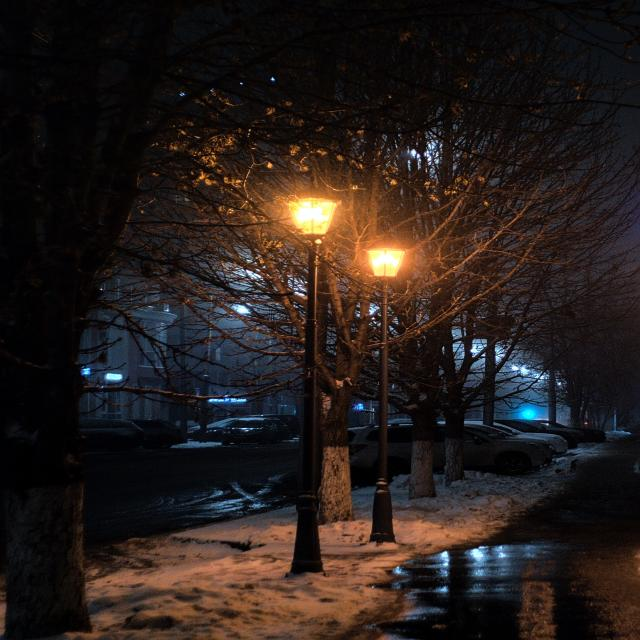Street Light: (281, 178, 345, 575), (366, 237, 407, 542)
